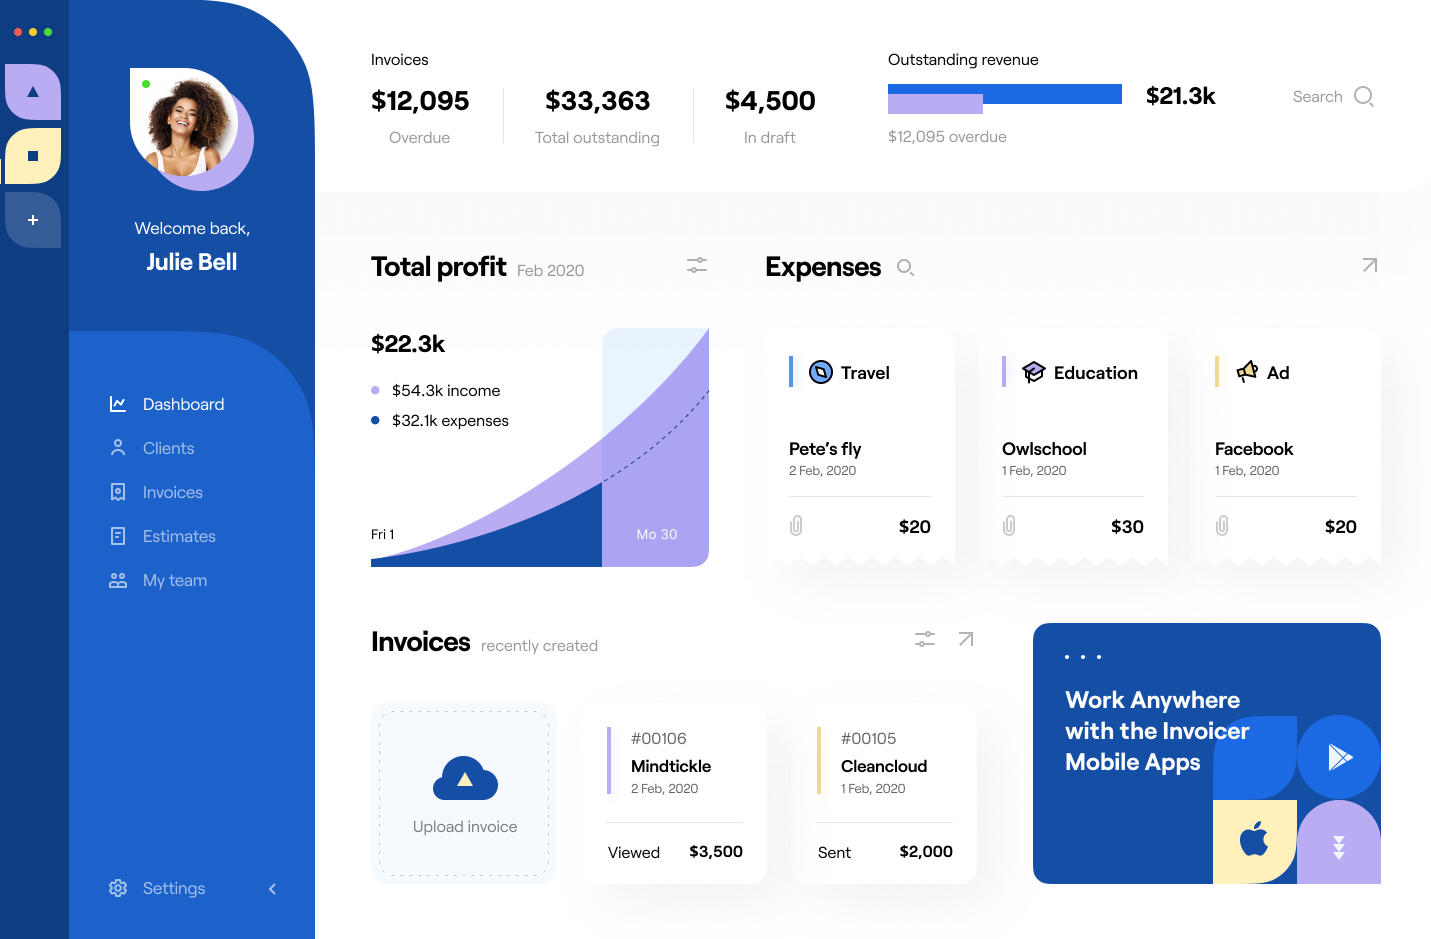block: (68, 1, 317, 939), (317, 1, 1430, 190), (1034, 624, 1381, 880), (1, 1, 67, 939), (372, 703, 559, 882), (582, 703, 769, 882), (791, 706, 978, 885)
button: (4, 192, 61, 248), (5, 23, 61, 39), (261, 877, 287, 902)
chart: (368, 326, 710, 566), (886, 48, 1219, 148)
icon: (1298, 715, 1382, 800), (1213, 800, 1298, 883), (1298, 801, 1382, 883), (423, 751, 510, 806), (4, 128, 62, 184), (5, 62, 60, 119), (1057, 645, 1114, 671), (676, 248, 720, 282), (994, 509, 1027, 543), (1207, 509, 1240, 542), (1353, 249, 1389, 280), (1016, 358, 1052, 389), (908, 624, 942, 654), (1349, 81, 1381, 112), (780, 509, 812, 541), (1232, 357, 1264, 388), (950, 624, 981, 655), (805, 357, 837, 386), (891, 253, 921, 282), (104, 521, 132, 550), (104, 566, 133, 594), (106, 477, 131, 506), (104, 875, 131, 901), (105, 435, 130, 461), (105, 392, 130, 415)
image: (129, 68, 254, 192)
table: (765, 324, 1379, 566)
